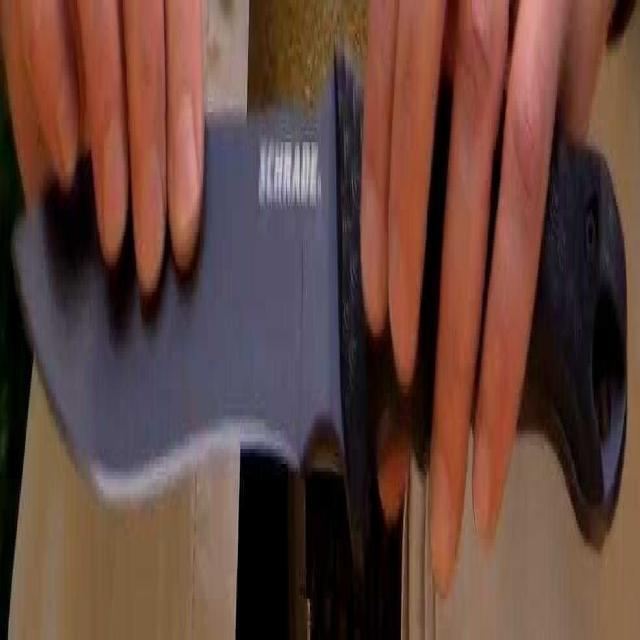Knife: (8, 18, 640, 578)
